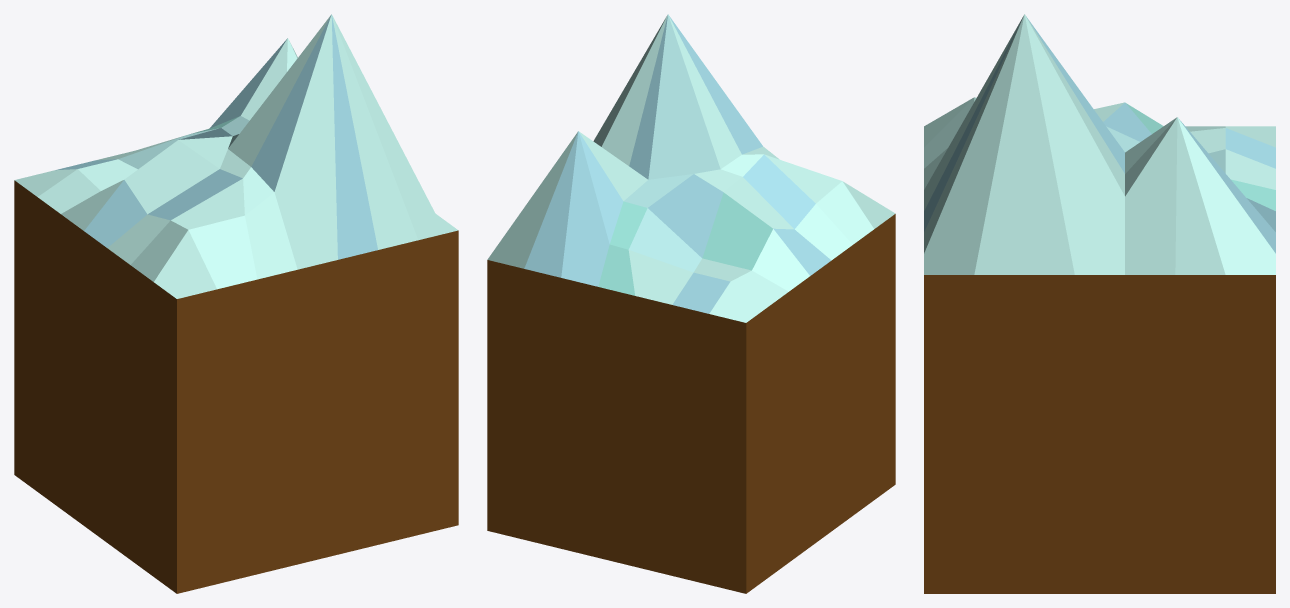
File: MOUNTAIN_BARDUR.glb
3 views of the same model, side by side, from view 1: azimuth 30°, elevation 25°; view 2: azimuth 150°, elevation 25°; view 3: azimuth 270°, elevation 25° (orthographic). The views are drawn at different scales.
Parts seen in each view (by area): view 1: Mountain_Bardur; view 2: Mountain_Bardur; view 3: Mountain_Bardur.
Boxes of the visible parts, x1,y1,x2,y2 form: Mountain_Bardur: (14,14,458,593); Mountain_Bardur: (487,14,895,593); Mountain_Bardur: (924,14,1275,593).
Size of the model in its own units: 4 by 6.74 by 4.
1 material, 1 textured.
